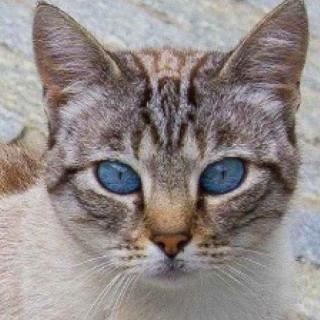cat: (25, 0, 313, 293)
nose: (137, 199, 202, 264)
